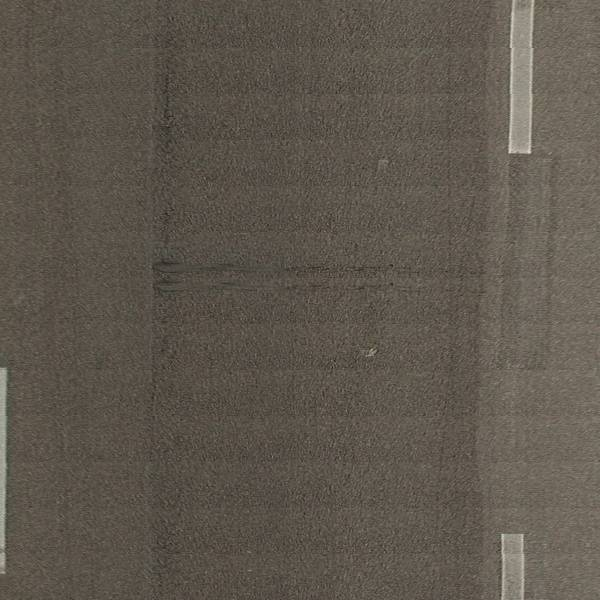road_damage: (148, 257, 419, 276)
